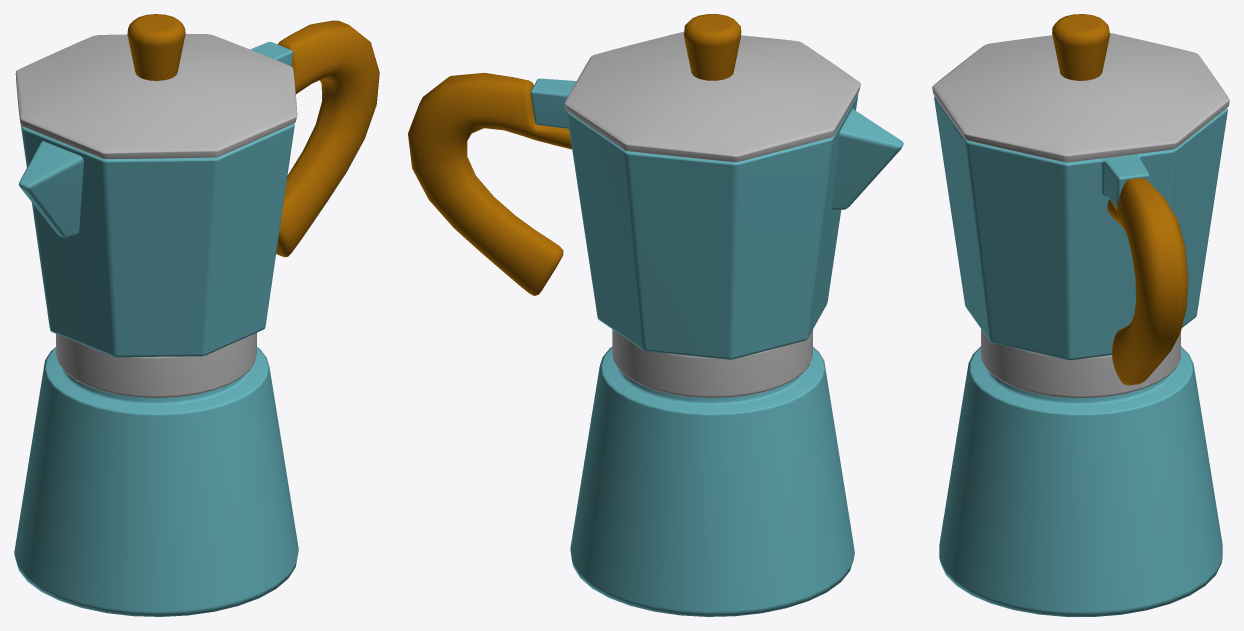
Rendered from SM_mokapot.fbx.
3 views of the same model, side by side, from view 1: azimuth 30°, elevation 25°; view 2: azimuth 150°, elevation 25°; view 3: azimuth 270°, elevation 25° (orthographic).
Visible parts, largest first — view 1: SM_mokapot; view 2: SM_mokapot; view 3: SM_mokapot.
Part boxes in pixels (x1,y1,x2,y2): SM_mokapot: (14, 14, 379, 616); SM_mokapot: (408, 14, 903, 616); SM_mokapot: (932, 14, 1229, 616).
Size of the model in its own units: 48.07 by 58.12 by 29.22.
2 materials, 2 textured.
